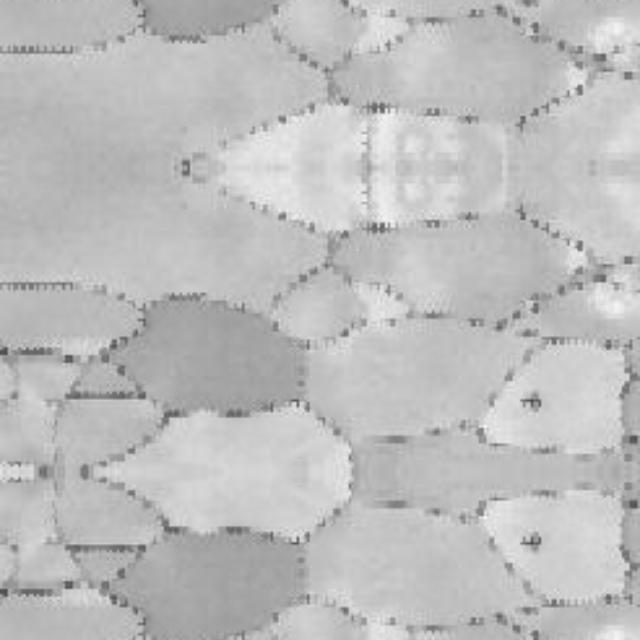good_void: (519, 530, 543, 555), (519, 388, 543, 412)
